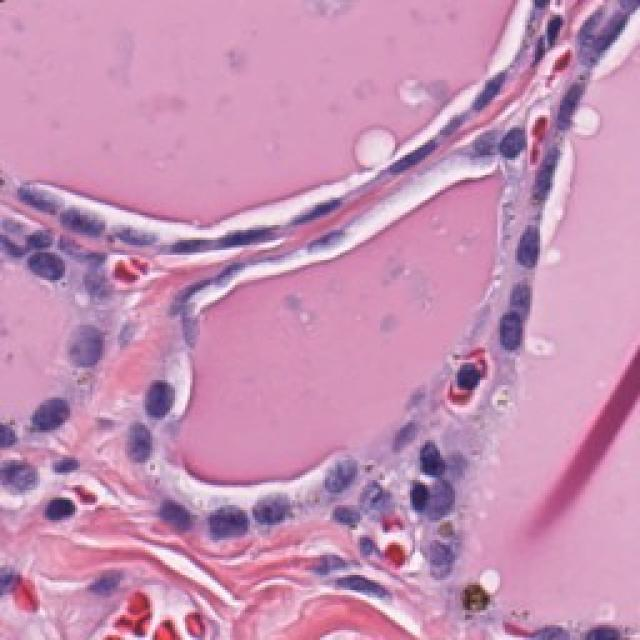normal: (55, 166, 123, 262), (95, 408, 168, 487), (484, 304, 548, 379), (136, 485, 212, 548), (485, 102, 550, 175), (12, 386, 88, 446), (132, 357, 195, 428), (60, 320, 127, 383), (492, 218, 560, 277), (310, 445, 365, 515), (206, 495, 262, 563), (243, 478, 307, 537), (555, 73, 598, 142)
